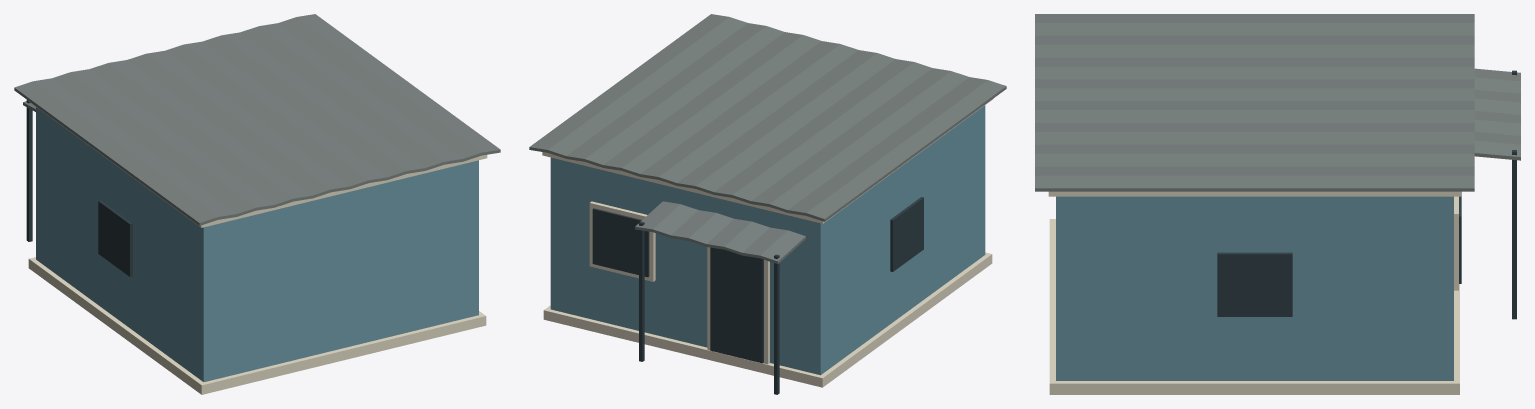
Rendered from KOL_T3_INF_01.fbx.
3 views of the same model, side by side, from view 1: azimuth 30°, elevation 25°; view 2: azimuth 150°, elevation 25°; view 3: azimuth 270°, elevation 25° (orthographic). The views are drawn at different scales.
Visible parts, largest first — view 1: KOL_T3_INF_01__Body, KOL_T3_INF_01__Roof, KOL_T3_INF_01__Trim, KOL_T3_INF_01__Dark; view 2: KOL_T3_INF_01__Roof, KOL_T3_INF_01__Body, KOL_T3_INF_01__Dark, KOL_T3_INF_01__Trim; view 3: KOL_T3_INF_01__Roof, KOL_T3_INF_01__Body, KOL_T3_INF_01__Trim, KOL_T3_INF_01__Dark.
Boxes of the visible parts, x1,y1,x2,y2 form: KOL_T3_INF_01__Body: [36, 107, 478, 381]; KOL_T3_INF_01__Roof: [14, 14, 500, 225]; KOL_T3_INF_01__Trim: [27, 100, 487, 394]; KOL_T3_INF_01__Dark: [26, 100, 132, 276]; KOL_T3_INF_01__Roof: [529, 14, 1006, 263]; KOL_T3_INF_01__Body: [550, 105, 985, 375]; KOL_T3_INF_01__Dark: [592, 197, 923, 394]; KOL_T3_INF_01__Trim: [542, 98, 993, 387]; KOL_T3_INF_01__Roof: [1035, 14, 1520, 191]; KOL_T3_INF_01__Body: [1056, 196, 1453, 380]; KOL_T3_INF_01__Trim: [1048, 191, 1461, 394]; KOL_T3_INF_01__Dark: [1217, 70, 1516, 319].
Bounding box in the file's own units: 19.7 × 11.25 × 23.2.
